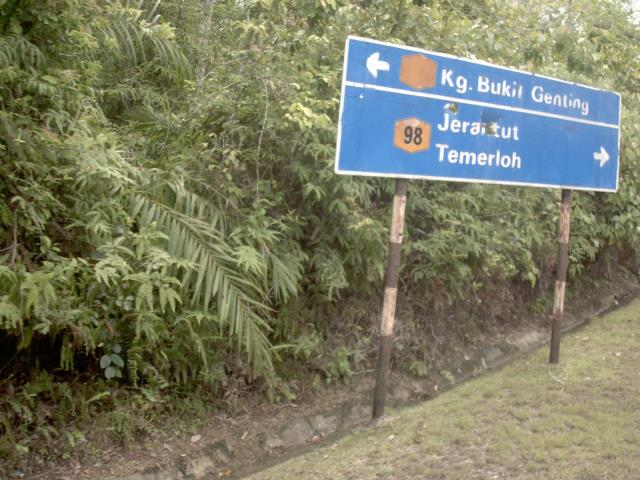traffic_sign: (321, 24, 633, 213)
